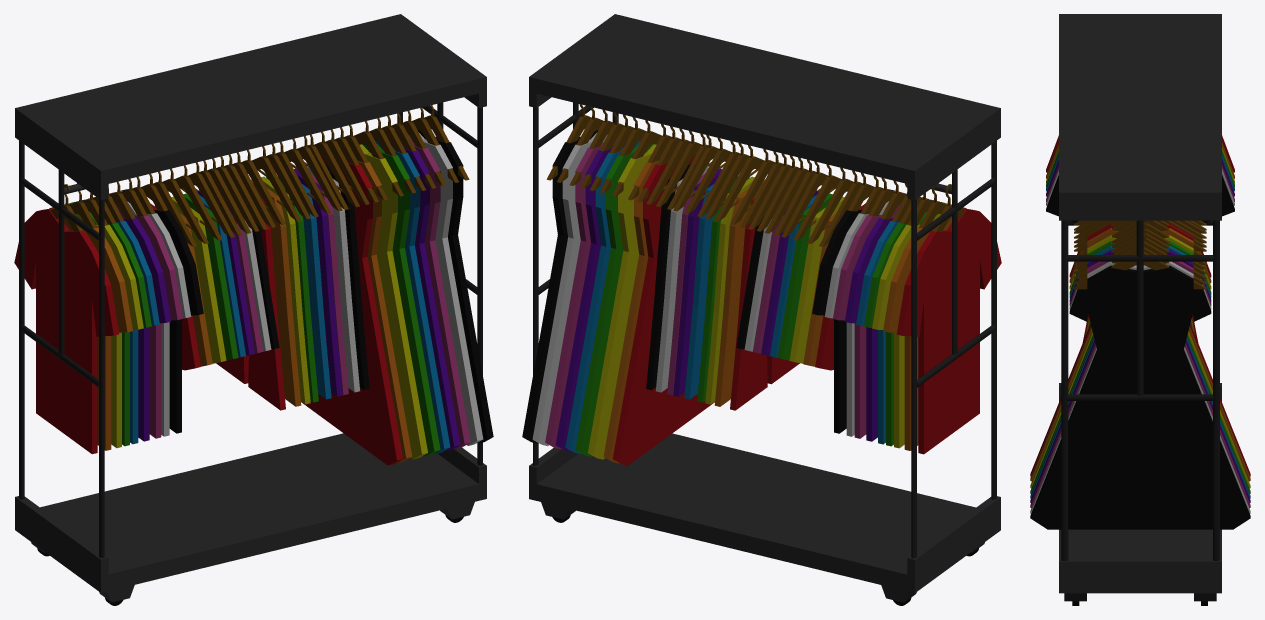
File: Kleding hanger.fbx
3 renders of one model, left to right at view 1: azimuth 30°, elevation 25°; view 2: azimuth 150°, elevation 25°; view 3: azimuth 270°, elevation 25°, orthographic. The views are drawn at different scales.
Parts seen in each view (by area): view 1: Cube.001, Cube, Tshirt, Tshirt.009, Tshirt.011, Tshirt.016, Tshirt.012, Tshirt.015, Tshirt.017, Tshirt.013, Tshirt.014, pants.006 (+48 smaller); view 2: Cube.001, Cube, Tshirt, Tshirt.009, Tshirt.011, Tshirt.016, Tshirt.012, Tshirt.015, Tshirt.017, Tshirt.013, Tshirt.014, pants.006 (+48 smaller); view 3: Tshirt.017, Cube.001, Cube, Cylinder, Cylinder.001, Tshirt.010, Cylinder.004, Tshirt.011, Tshirt.015, Tshirt.016, Cylinder.005, Cylinder.006 (+15 smaller).
Part boxes in pixels (x1=…): Cube.001: x1=15, y1=14, x2=486, y2=200; Cube: x1=15, y1=433, x2=486, y2=602; Tshirt: x1=14, y1=208, x2=119, y2=454; Tshirt.009: x1=301, y1=155, x2=402, y2=465; Tshirt.011: x1=359, y1=144, x2=427, y2=459; Tshirt.016: x1=408, y1=133, x2=483, y2=445; Tshirt.012: x1=362, y1=143, x2=440, y2=456; Tshirt.015: x1=399, y1=138, x2=470, y2=448; Tshirt.017: x1=418, y1=130, x2=493, y2=443; Tshirt.013: x1=375, y1=140, x2=450, y2=453; Tshirt.014: x1=389, y1=140, x2=460, y2=451; pants.006: x1=251, y1=179, x2=301, y2=406; Cube.001: x1=529, y1=14, x2=1000, y2=200; Cube: x1=529, y1=433, x2=1000, y2=602; Tshirt: x1=896, y1=208, x2=1001, y2=454; Tshirt.009: x1=612, y1=154, x2=714, y2=465; Tshirt.011: x1=588, y1=144, x2=656, y2=459; Tshirt.016: x1=532, y1=133, x2=607, y2=446; Tshirt.012: x1=575, y1=143, x2=653, y2=456; Tshirt.015: x1=545, y1=138, x2=616, y2=449; Tshirt.017: x1=522, y1=130, x2=597, y2=443; Tshirt.013: x1=565, y1=140, x2=640, y2=454; Tshirt.014: x1=555, y1=141, x2=626, y2=451; pants.006: x1=714, y1=179, x2=764, y2=406; Tshirt.017: x1=1030, y1=265, x2=1250, y2=529; Cube.001: x1=1059, y1=14, x2=1221, y2=220; Cube: x1=1059, y1=383, x2=1221, y2=601; Cylinder: x1=1061, y1=220, x2=1068, y2=560; Cylinder.001: x1=1213, y1=220, x2=1219, y2=560; Tshirt.010: x1=1030, y1=228, x2=1250, y2=481; Cylinder.004: x1=1136, y1=220, x2=1143, y2=395; Tshirt.011: x1=1030, y1=235, x2=1250, y2=488; Tshirt.015: x1=1030, y1=261, x2=1250, y2=508; Tshirt.016: x1=1030, y1=261, x2=1250, y2=513; Cylinder.005: x1=1066, y1=394, x2=1213, y2=400; Cylinder.006: x1=1066, y1=255, x2=1213, y2=261.
Bounding box in the file's own units: 834 × 920 × 434.
